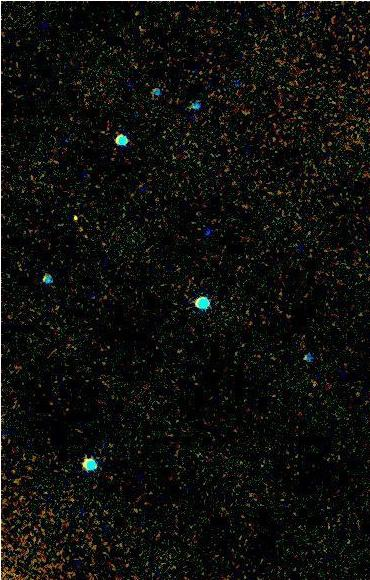star: (61, 202, 91, 232)
